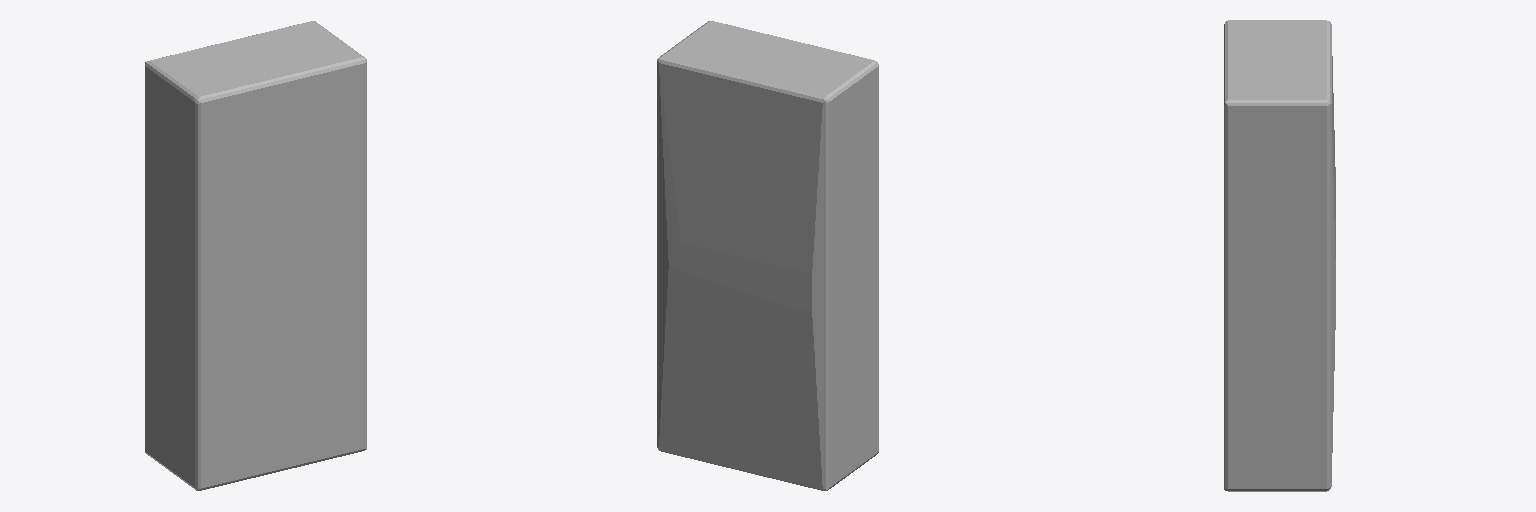
robot.urdf — root:
<robot name="root">
  <link name="link_coacd_convex_piece_0">
    <inertial>
      <origin xyz="0 0 0" rpy="0 0 0"/>
      <inertia ixx="1.49E-01" ixy="3.84E-06" ixz="1.38E-05" iyy="3.86E-02" iyz="1.27E-05" izz="1.70E-01"/>
    </inertial>
    <visual>
      <origin xyz="0 0 0" rpy="0 0 0"/>
      <geometry>
        <mesh filename="coacd_convex_piece_0.obj" scale="1.0000E+00 1.0000E+00 1.0000E+00"/>
      </geometry>
      <material name="">
        <color rgba="7.50E-01 7.50E-01 7.50E-01 1"/>
      </material>
    </visual>
    <collision>
      <origin xyz="0 0 0" rpy="0 0 0"/>
      <geometry>
        <mesh filename="coacd_convex_piece_0.obj" scale="1.0000E+00 1.0000E+00 1.0000E+00"/>
      </geometry>
    </collision>
  </link>
</robot>

--- What the picture shows (computed from the rendered views, not written in the file) ---
The picture shows the robot from 3 angles, left to right: view 1: azimuth 30°, elevation 25°; view 2: azimuth 150°, elevation 25°; view 3: azimuth 270°, elevation 25°; orthographic projection.
Model root with 1 links and 0 joints (none), rooted at link_coacd_convex_piece_0, posed all joints at 0.
Visible links, largest first — view 1: link_coacd_convex_piece_0; view 2: link_coacd_convex_piece_0; view 3: link_coacd_convex_piece_0.
Link boxes in pixels (x1,y1,x2,y2): link_coacd_convex_piece_0: (145,21,366,490); link_coacd_convex_piece_0: (657,21,878,490); link_coacd_convex_piece_0: (1224,20,1335,491).
Bounding box of the posed robot: 0.8 × 0.4571 × 1.75 m (x, y, z).
1 mesh visuals loaded from 1 distinct referenced files (1 OBJ).
